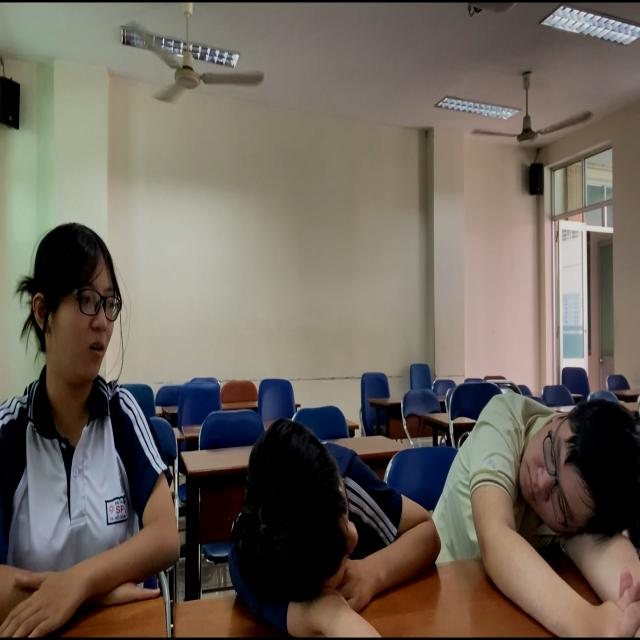sleep: (225, 398, 445, 636), (441, 372, 640, 627)
